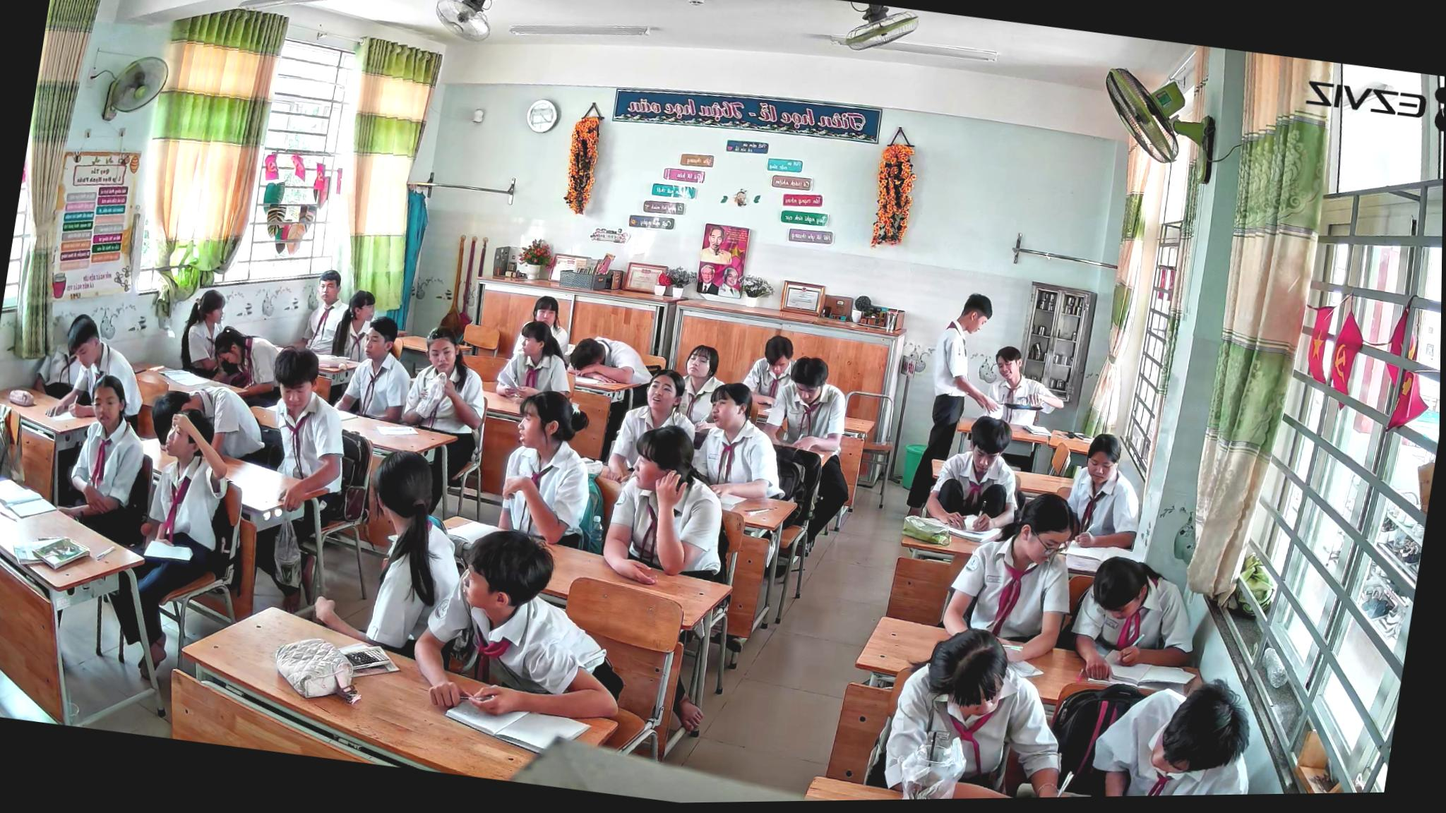person: (403, 515, 646, 738), (872, 614, 1103, 800), (306, 438, 486, 665), (110, 403, 249, 691), (936, 478, 1090, 670), (904, 287, 1021, 526), (596, 418, 745, 598), (1076, 663, 1276, 797), (742, 350, 869, 538), (1063, 550, 1210, 694), (249, 344, 363, 519), (493, 384, 611, 552), (391, 321, 500, 487), (59, 371, 161, 544), (684, 378, 795, 517), (923, 409, 1034, 539), (596, 362, 705, 494), (554, 331, 659, 465), (43, 311, 156, 431), (1058, 427, 1153, 559), (143, 376, 275, 468), (329, 309, 421, 424), (493, 316, 585, 408), (983, 343, 1072, 433), (665, 342, 736, 453), (203, 323, 288, 409), (31, 305, 93, 402), (294, 265, 358, 358), (175, 286, 233, 379), (738, 331, 803, 411), (324, 285, 383, 367), (512, 292, 576, 365)
